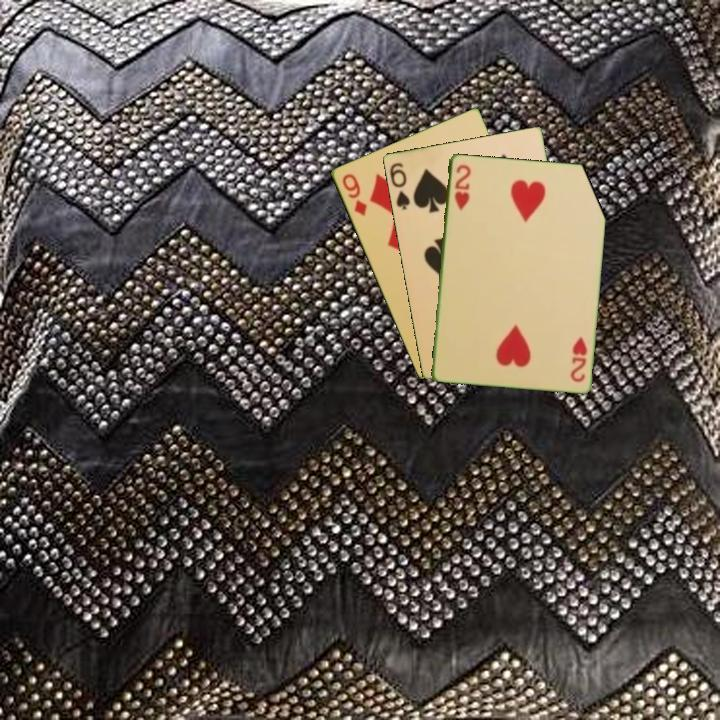2h: (566, 333, 590, 385), (451, 161, 473, 213)
6s: (386, 159, 412, 212)
9d: (338, 170, 370, 219)
